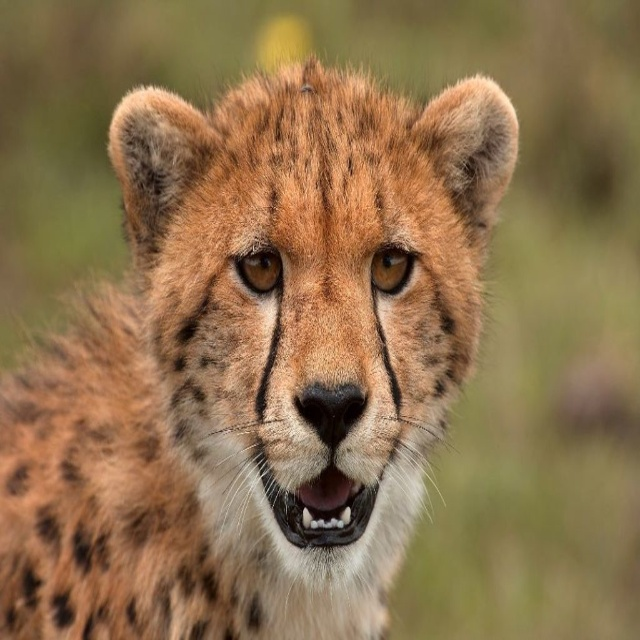Cheetah: (0, 50, 520, 640)
